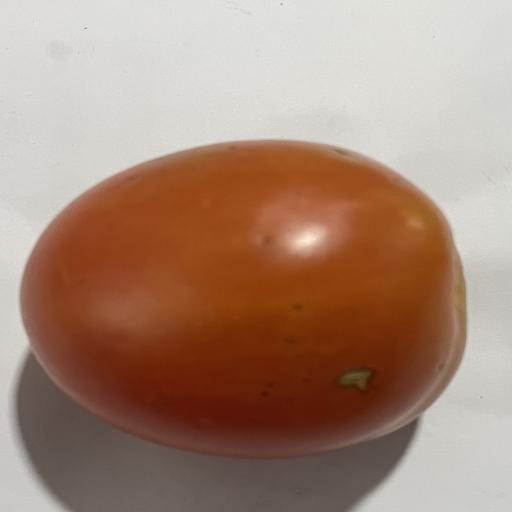ripe: (20, 140, 466, 458)
